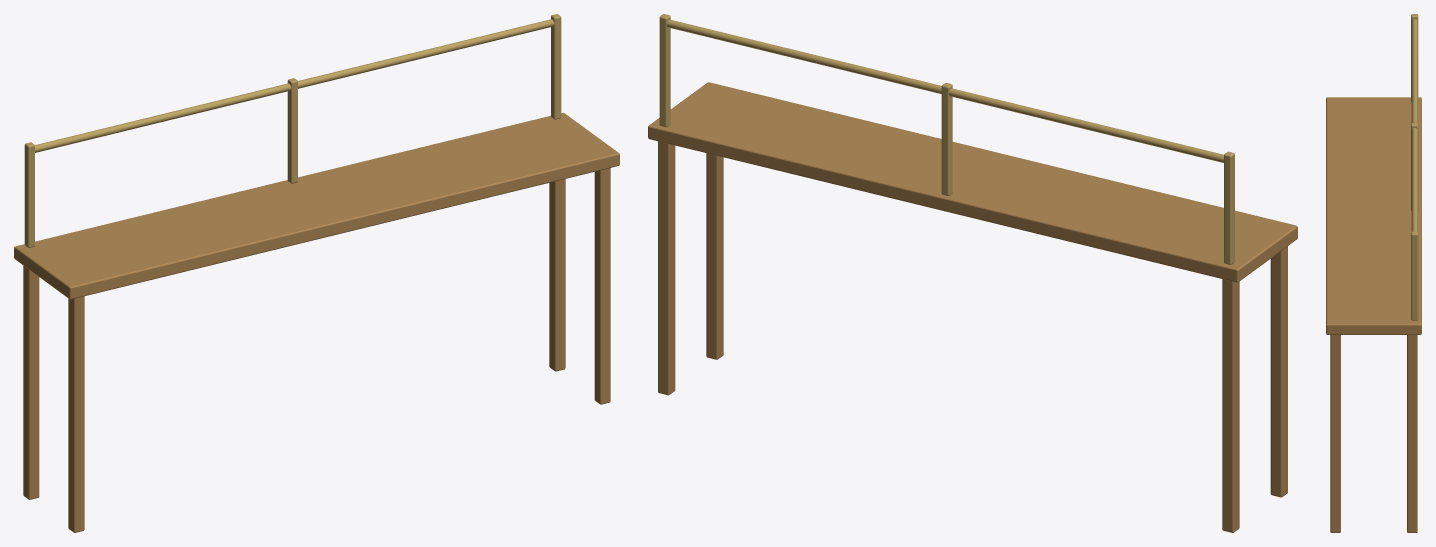
File: abandoned-puppet-theatre-and-prop-vault-backstage-oper-15be4168__31057.glb
The picture shows the model from 3 angles, left to right: view 1: azimuth 30°, elevation 25°; view 2: azimuth 150°, elevation 25°; view 3: azimuth 270°, elevation 25°; orthographic projection. The views are drawn at different scales.
Parts seen in each view (by area): view 1: backstage-operator-bridge; view 2: backstage-operator-bridge; view 3: backstage-operator-bridge.
Part boxes in pixels (x1=…): backstage-operator-bridge: x1=14, y1=14, x2=619, y2=532; backstage-operator-bridge: x1=648, y1=14, x2=1297, y2=532; backstage-operator-bridge: x1=1326, y1=14, x2=1421, y2=532.
Bounding box in the file's own units: 4.5 × 2.75 × 0.7998.
